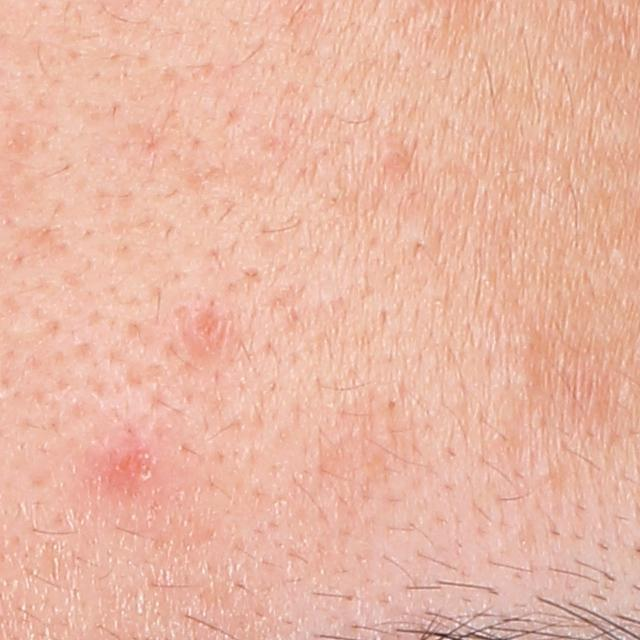comedo: (495, 359, 550, 404), (375, 136, 416, 174), (534, 461, 557, 486)
papule: (181, 303, 234, 358), (109, 443, 158, 492)
